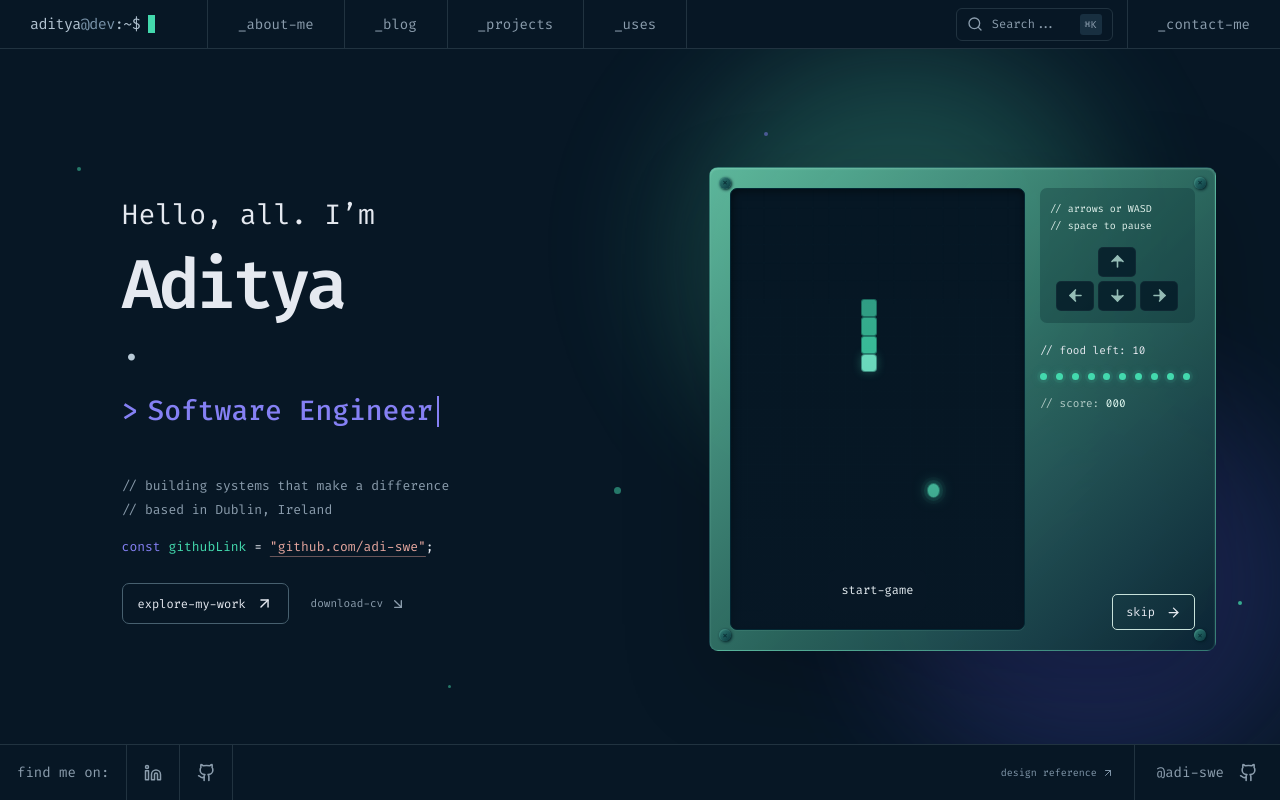
Test: Terminal portfolio interactions › supports keyboard search and navigation through the command palette
Press k
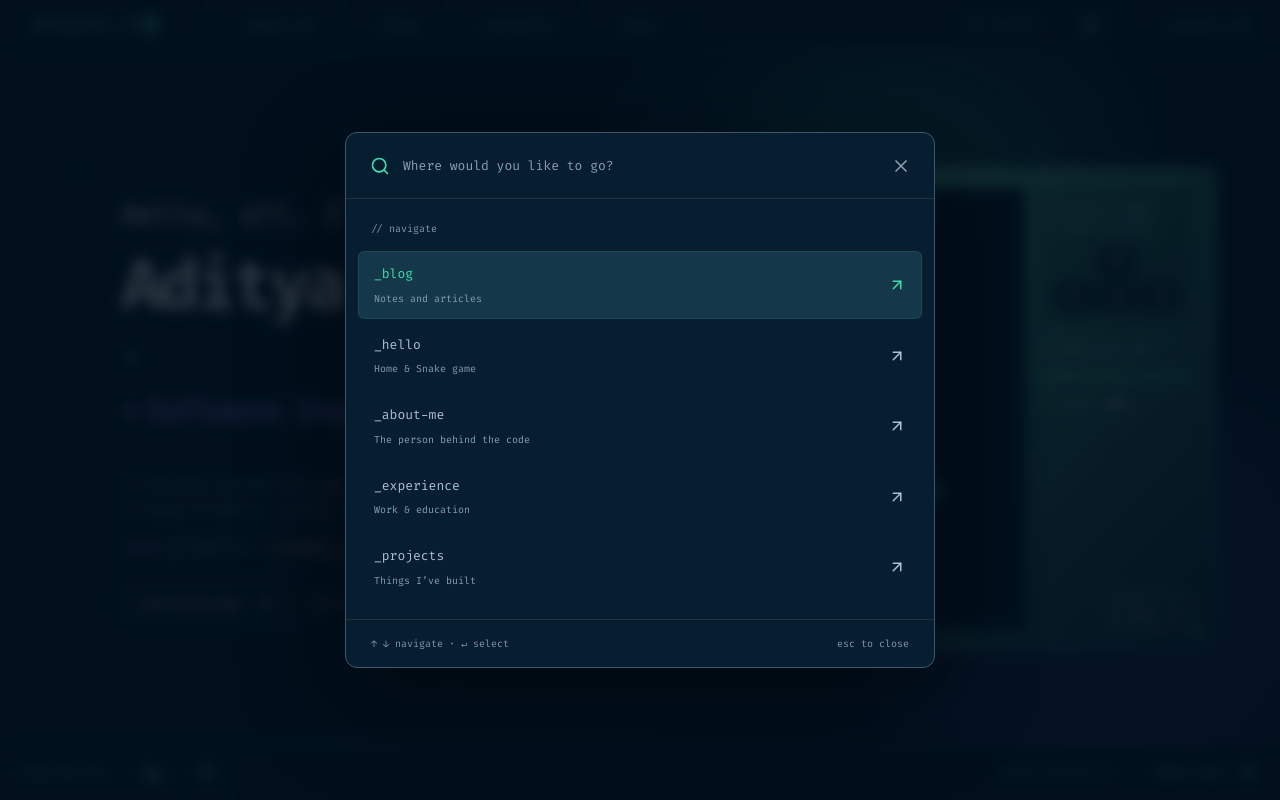
Type "projects" into the dropdown at (637, 166), box [403, 146, 872, 185]
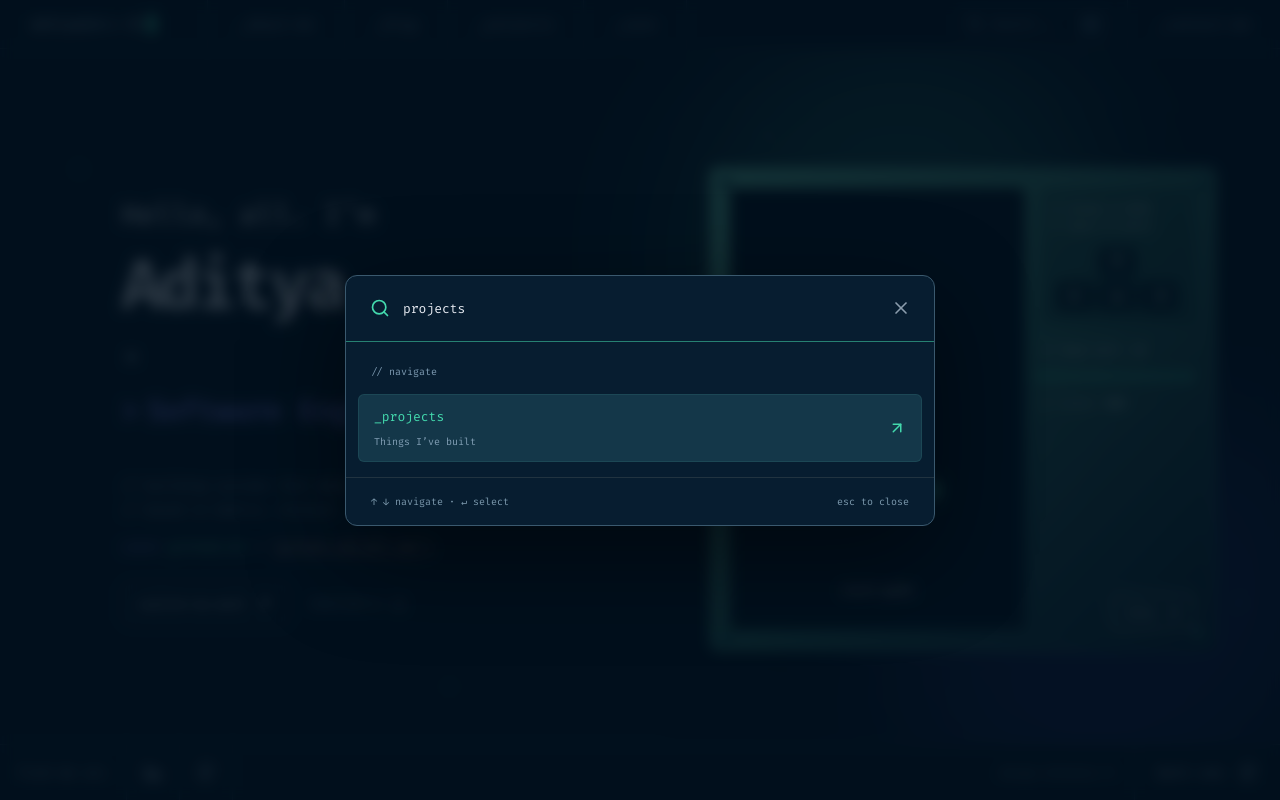
Result: the number of options is 1 at [358, 394, 922, 462]
Press Enter in the dropdown, box [403, 288, 872, 328]
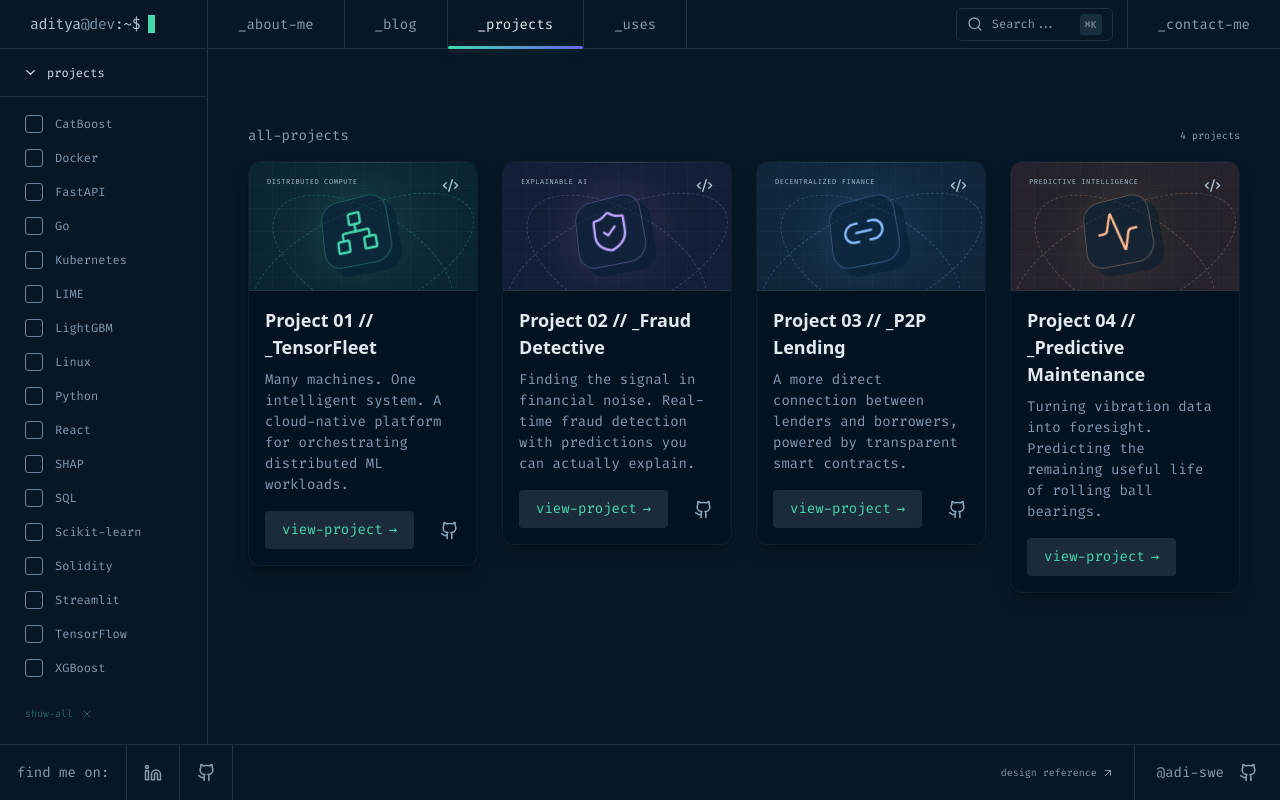
Result: the button with aria-label "Explore TensorFleet" is shown at [249, 162, 477, 291]
Result: the dialog is gone
Click the button with aria-label "Open command palette" at (1034, 24), box [956, 8, 1113, 40]
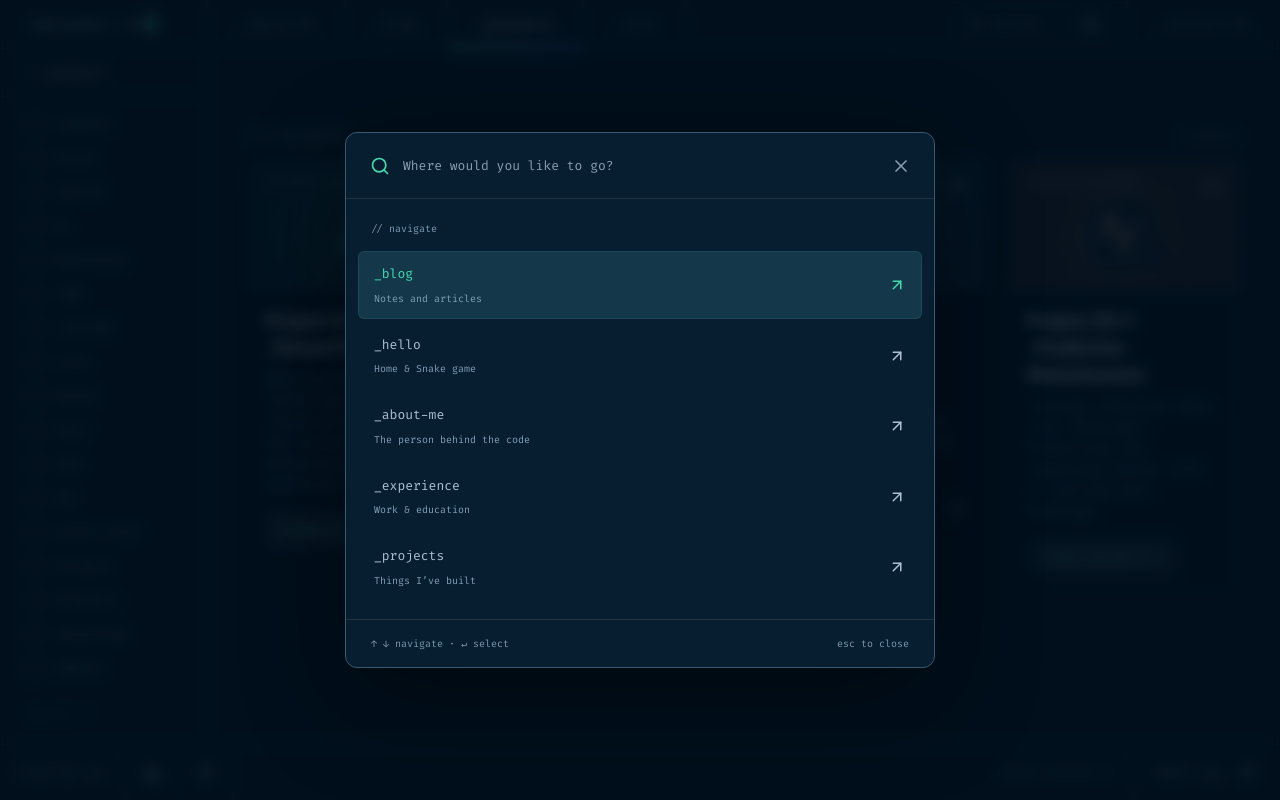
Click the button named "Close command palette" at (901, 166), box [884, 146, 917, 184]
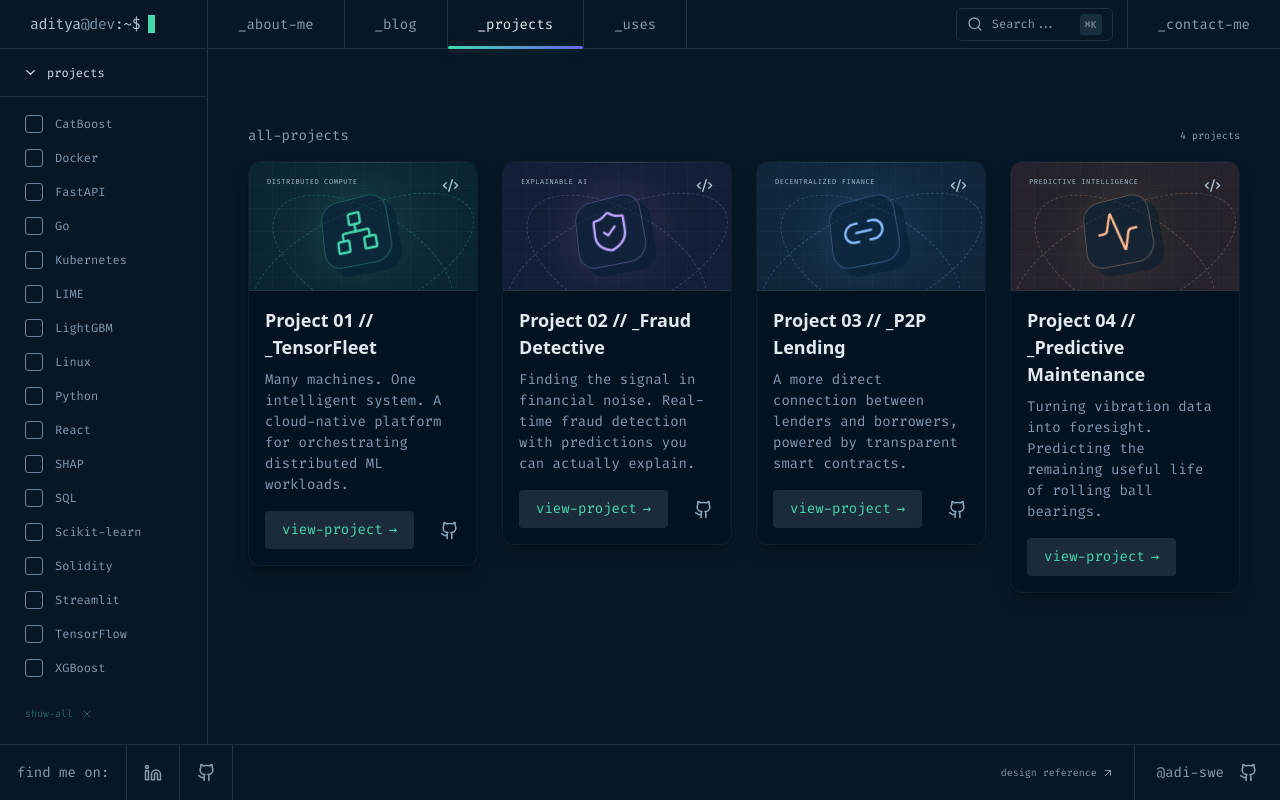
Result: the dialog is gone
